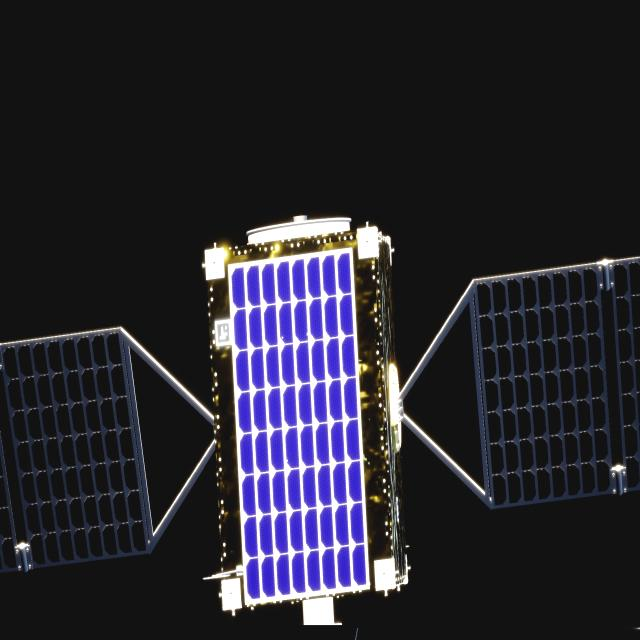satellite: (0, 213, 640, 618)
